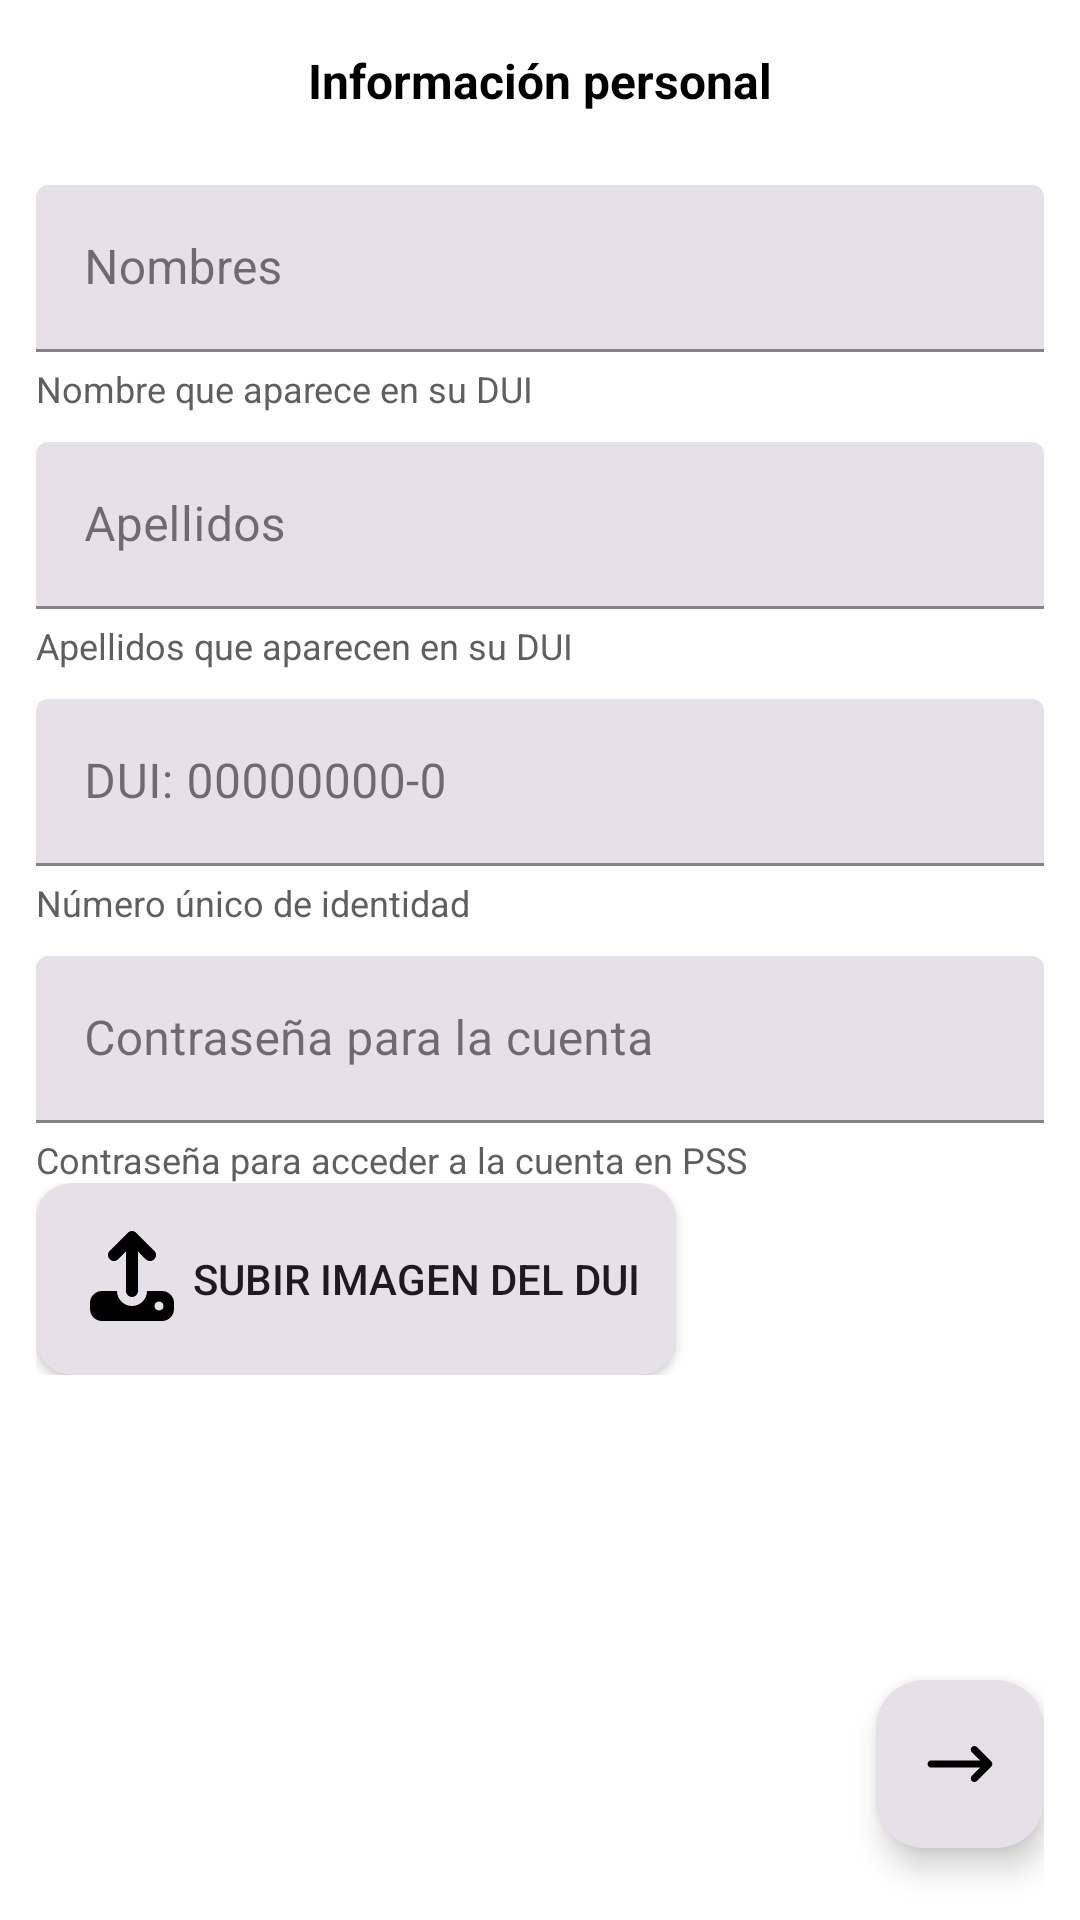

Icons on this 1080 x 1920 Android screen, each with the point to tap as point (x, y):
right arrow: point (960, 1764)
